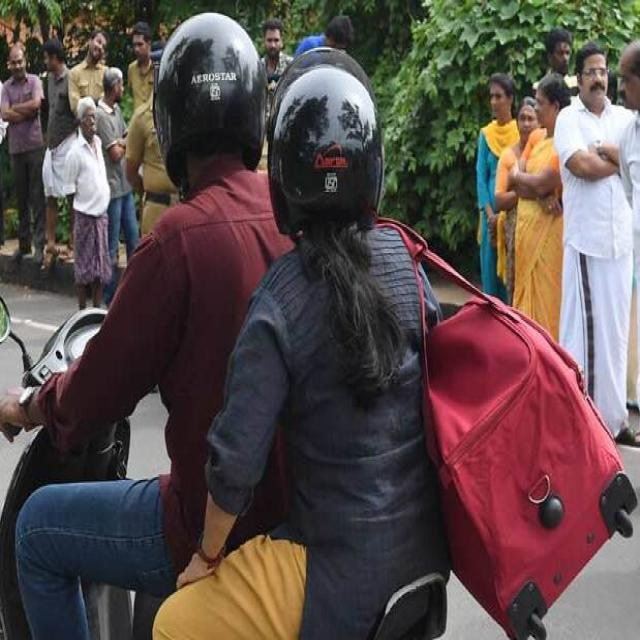Full-face-helmet: (263, 34, 390, 239), (151, 7, 267, 195)
